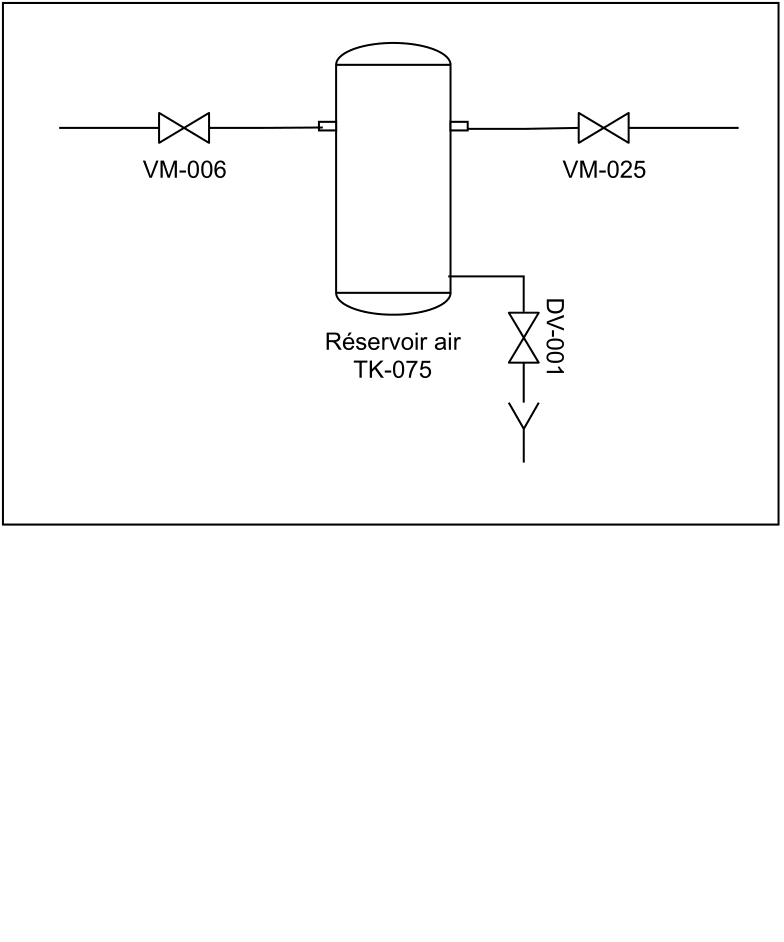valve: (155, 107, 216, 159), (572, 104, 639, 149), (500, 305, 545, 369)
